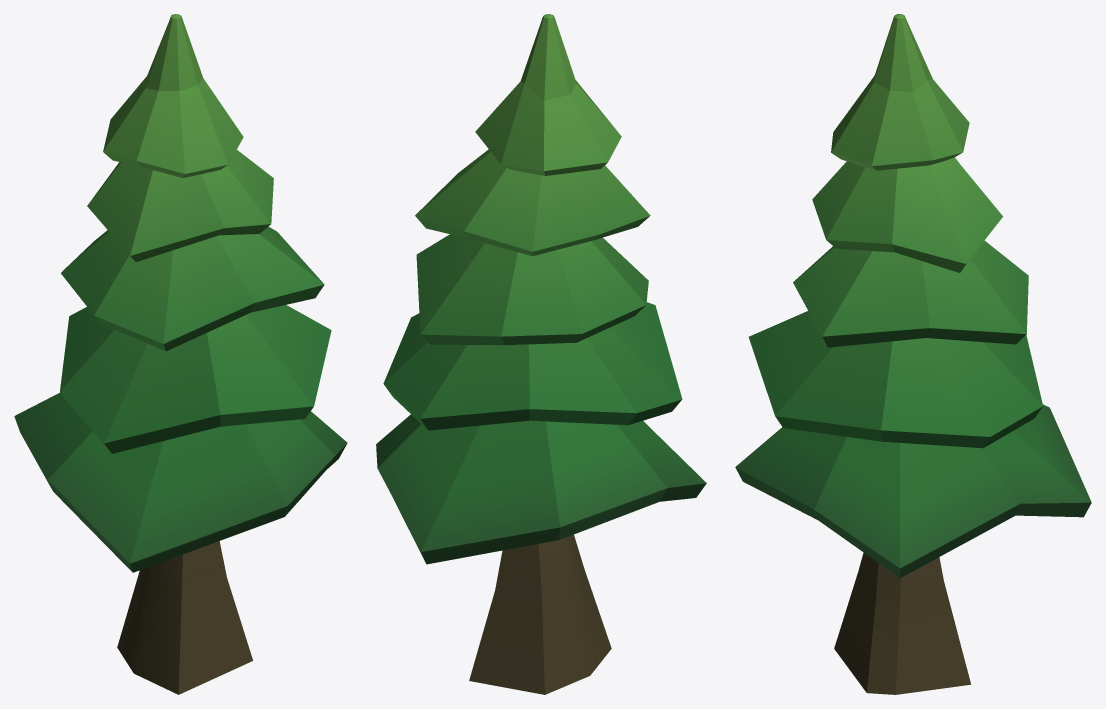
Rendered from evergreen2.gltf.
3 renders of one model, left to right at view 1: azimuth 30°, elevation 25°; view 2: azimuth 150°, elevation 25°; view 3: azimuth 270°, elevation 25°, orthographic.
Parts seen in each view (by area): view 1: evergreen2_low; view 2: evergreen2_low; view 3: evergreen2_low.
Boxes of the visible parts, x1,y1,x2,y2 form: evergreen2_low: (14, 14, 347, 694); evergreen2_low: (376, 14, 706, 694); evergreen2_low: (735, 14, 1091, 694).
Bounding box in the file's own units: 9.2 × 19.29 × 9.61.
1 material, 1 textured.
